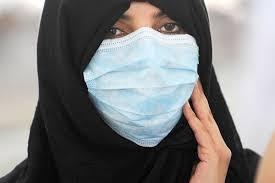Wearing Mask: (62, 0, 230, 165)
